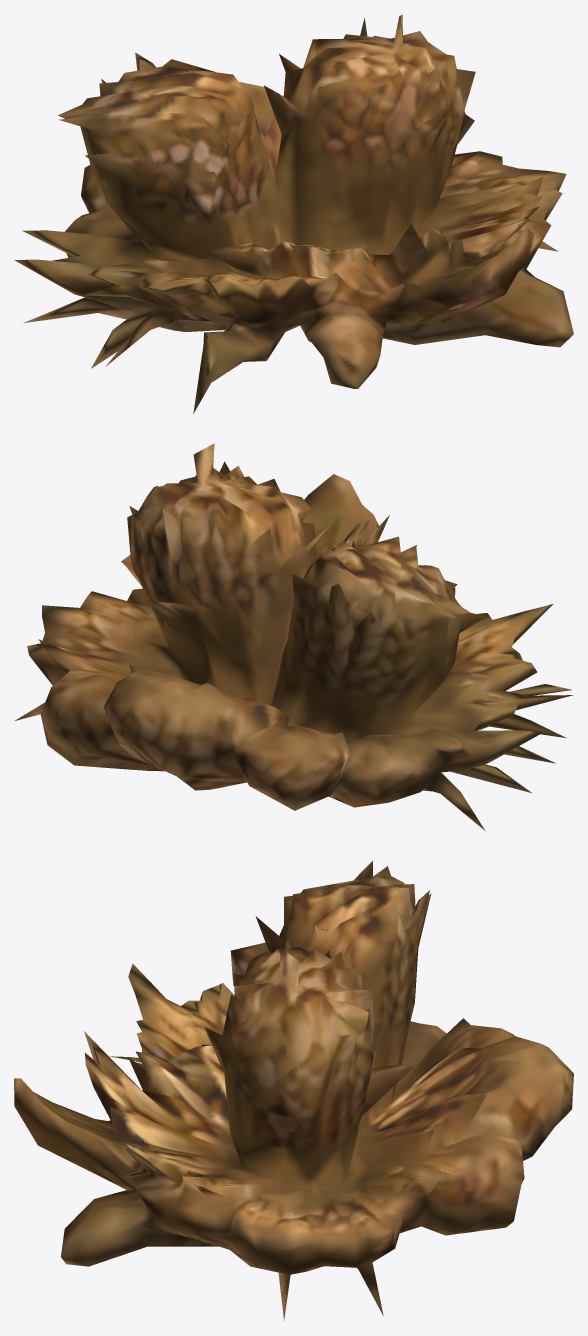
File: Pasto_Desertico_2.glb
3 renders of one model, top to bottom at view 1: azimuth 30°, elevation 25°; view 2: azimuth 150°, elevation 25°; view 3: azimuth 270°, elevation 25°, orthographic. The views are drawn at different scales.
Visible parts, largest first — view 1: Pasto Desertico 2; view 2: Pasto Desertico 2; view 3: Pasto Desertico 2.
Part boxes in pixels (<box>): Pasto Desertico 2: <box>14,14,573,413</box>; Pasto Desertico 2: <box>15,443,573,831</box>; Pasto Desertico 2: <box>14,861,573,1320</box>.
Bounding box in the file's own units: 0.1241 × 0.0661 × 0.1085.
1 material, 1 textured.
